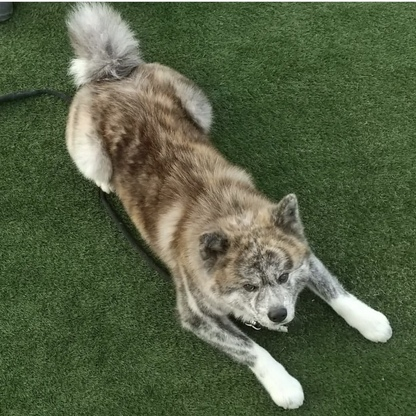akita: (56, 1, 401, 416)
